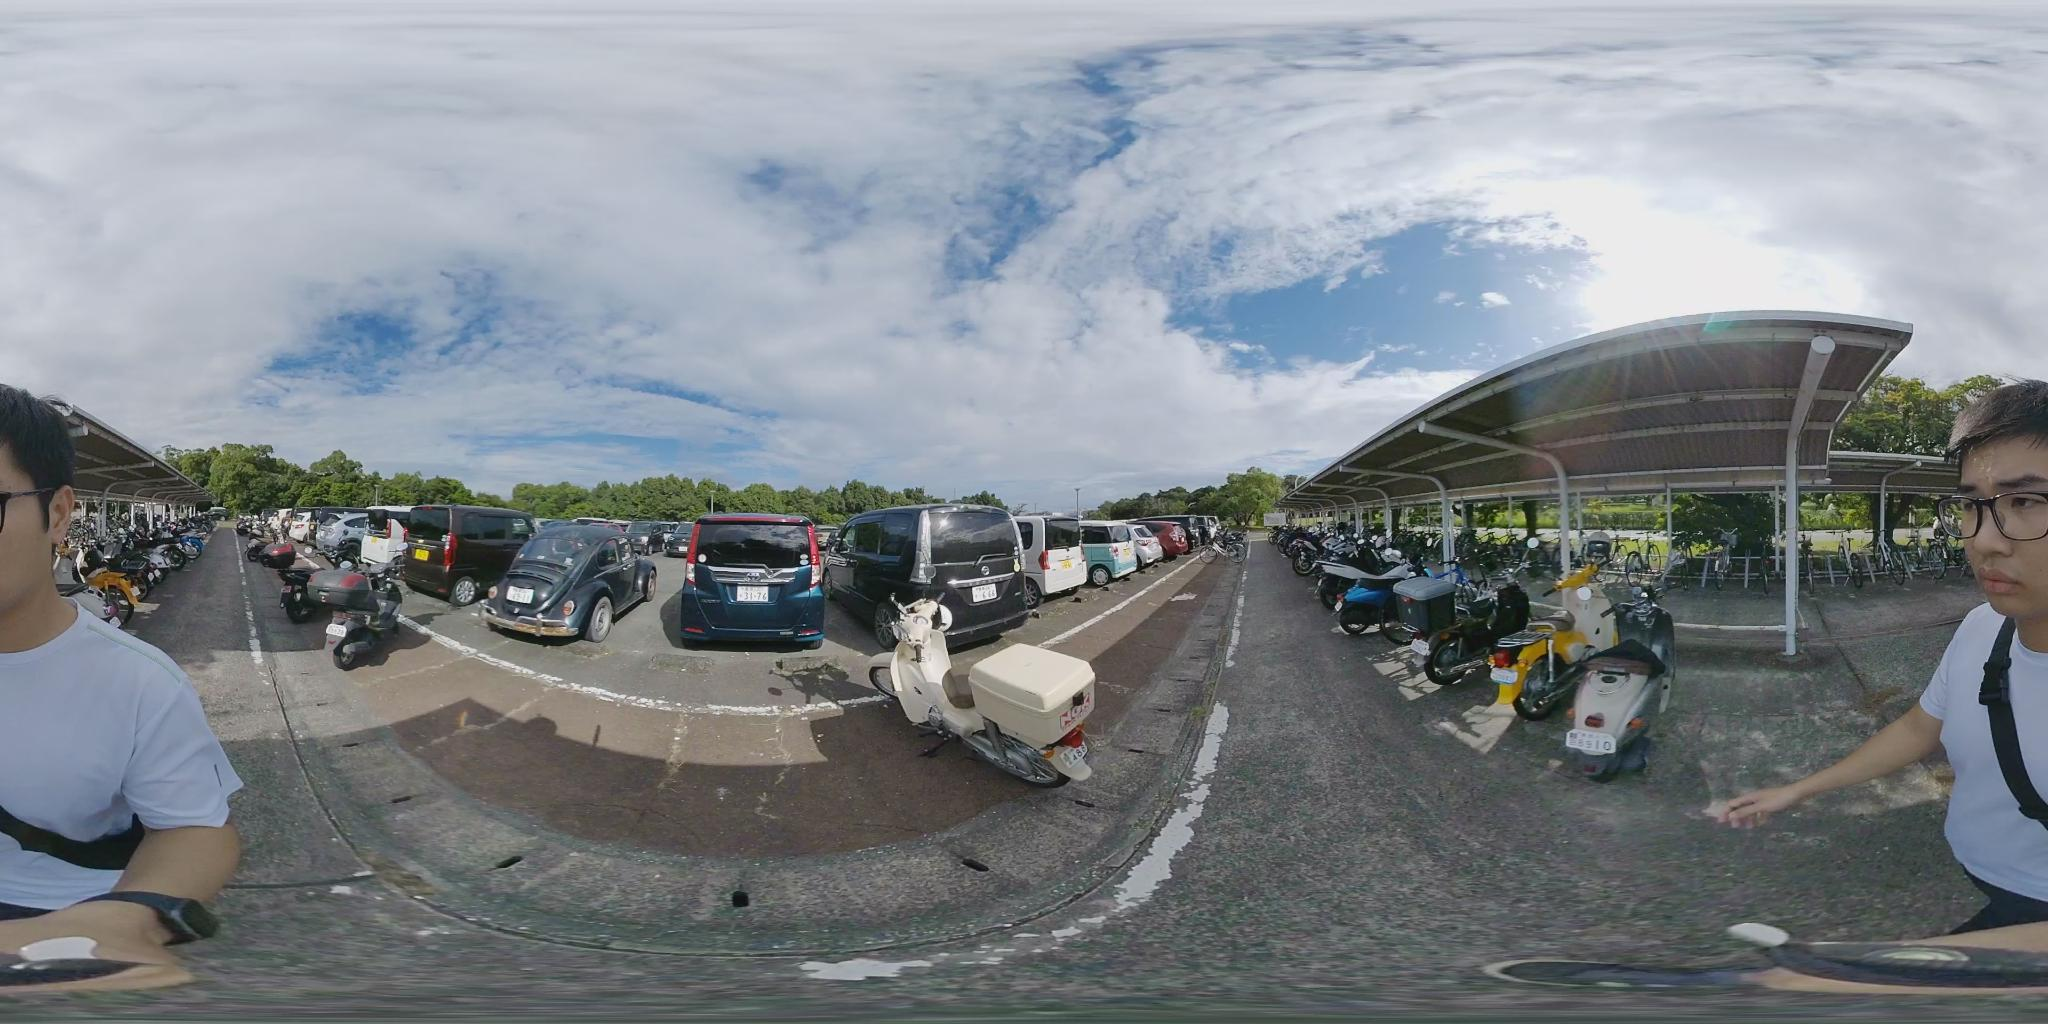car: (833, 511, 1027, 657), (477, 520, 666, 647), (678, 516, 820, 652)
